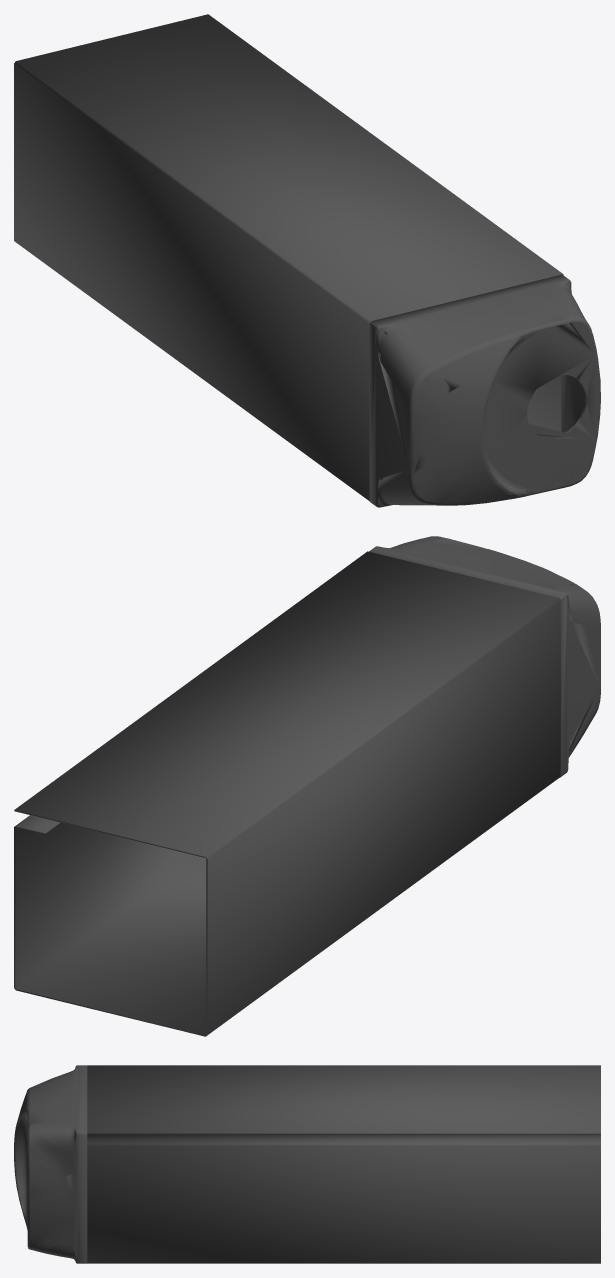
The model's file is torso_light.obj.
The picture shows the model from 3 angles, top to bottom: view 1: azimuth 30°, elevation 25°; view 2: azimuth 150°, elevation 25°; view 3: azimuth 270°, elevation 25°; orthographic projection. The views are drawn at different scales.
Visible parts, largest first — view 1: SM_Torso_005; view 2: SM_Torso_005; view 3: SM_Torso_005.
Boxes of the visible parts, x1,y1,x2,y2 form: SM_Torso_005: [14, 14, 600, 507]; SM_Torso_005: [14, 536, 600, 1036]; SM_Torso_005: [14, 1065, 600, 1263].
Size of the model in its own units: 0.1537 by 0.137 by 0.5554.
Materials: 1 (1 with a texture image).
